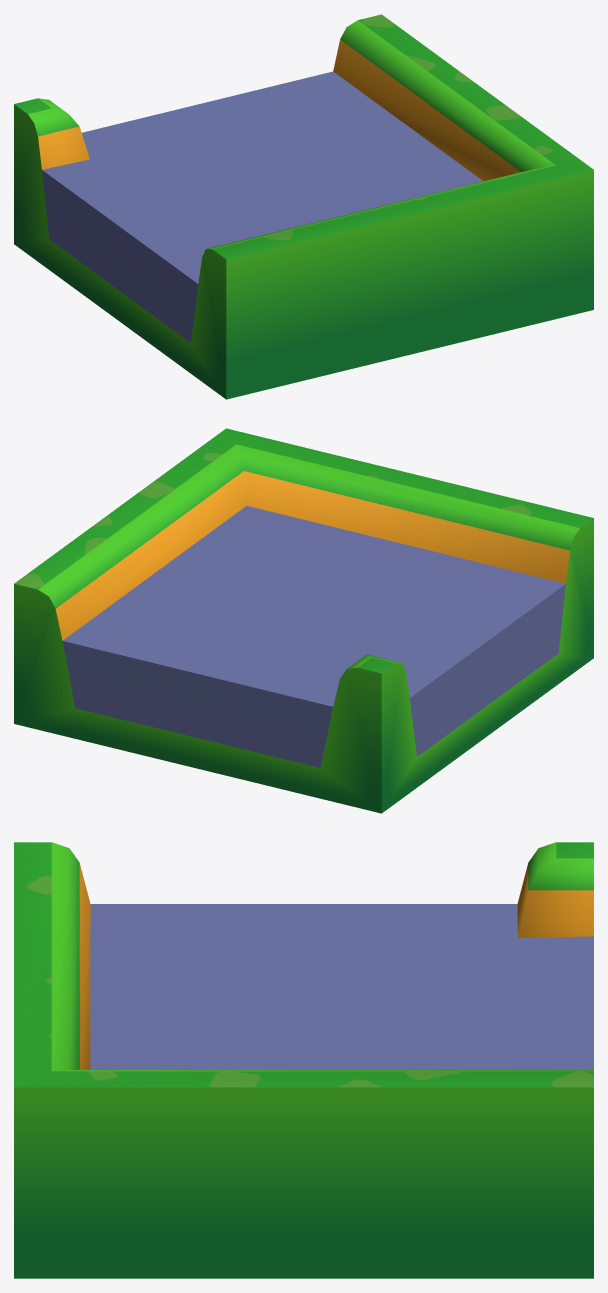
Rendered from RiverTile_2_2.fbx.
The picture shows the model from 3 angles, top to bottom: view 1: azimuth 30°, elevation 25°; view 2: azimuth 150°, elevation 25°; view 3: azimuth 270°, elevation 25°; orthographic projection. The views are drawn at different scales.
Parts seen in each view (by area): view 1: RiverTile_2_2; view 2: RiverTile_2_2; view 3: RiverTile_2_2.
Part boxes in pixels (<box>): RiverTile_2_2: <box>14,14,593,399</box>; RiverTile_2_2: <box>14,428,593,813</box>; RiverTile_2_2: <box>14,842,593,1278</box>.
Bounding box in the file's own units: 400 × 146 × 400.
